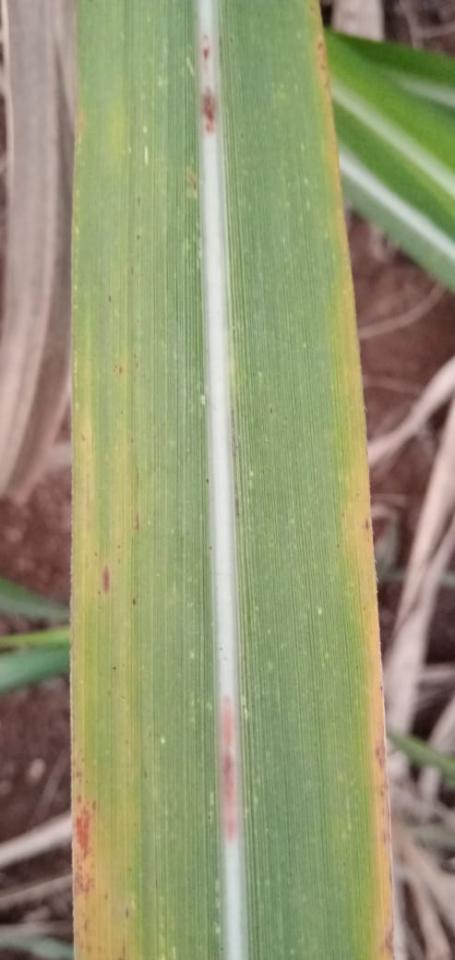RedRot: (211, 687, 249, 857), (197, 83, 221, 139), (200, 35, 214, 74)
Rust: (71, 791, 102, 877), (70, 730, 92, 786), (71, 860, 100, 900), (313, 37, 330, 96), (73, 926, 106, 955), (98, 560, 113, 597), (382, 917, 395, 958), (114, 931, 132, 959), (373, 737, 386, 774), (77, 909, 93, 933), (121, 897, 134, 918), (360, 512, 372, 534), (101, 884, 111, 906), (377, 781, 387, 802), (378, 829, 389, 848)
Yellow: (311, 0, 397, 959), (70, 263, 139, 959)
